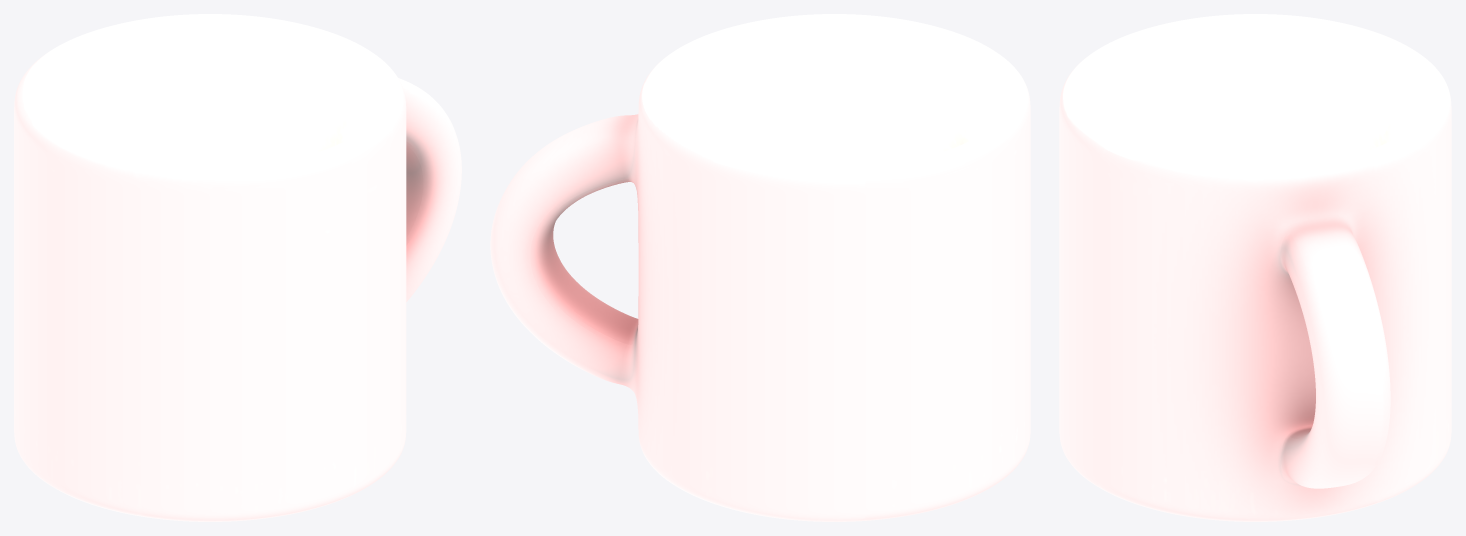
The model's file is Mug.fbx.
3 renders of one model, left to right at view 1: azimuth 30°, elevation 25°; view 2: azimuth 150°, elevation 25°; view 3: azimuth 270°, elevation 25°, orthographic.
Visible parts, largest first — view 1: mug; view 2: mug; view 3: mug.
Boxes of the visible parts, x1,y1,x2,y2 form: mug: [14, 14, 461, 521]; mug: [490, 14, 1030, 521]; mug: [1059, 14, 1451, 521].
Size of the model in its own units: 20.64 by 15.18 by 15.18.
